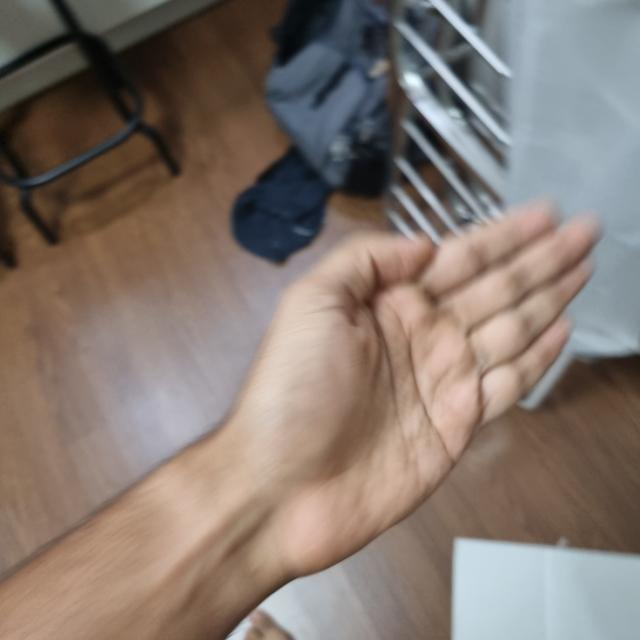Paper: (216, 201, 600, 578)
